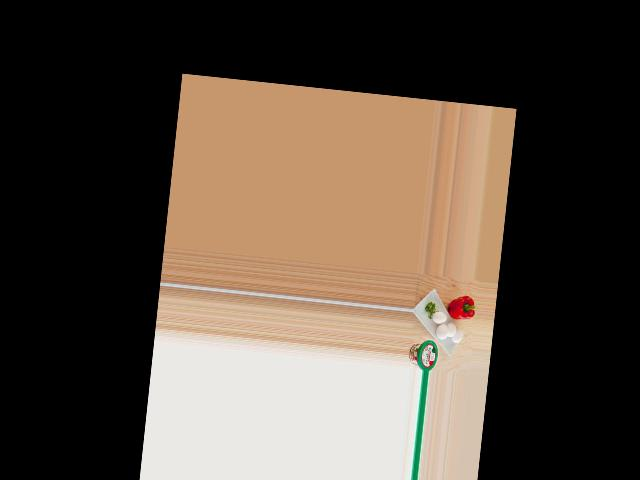bell_pepper: (447, 292, 476, 325)
